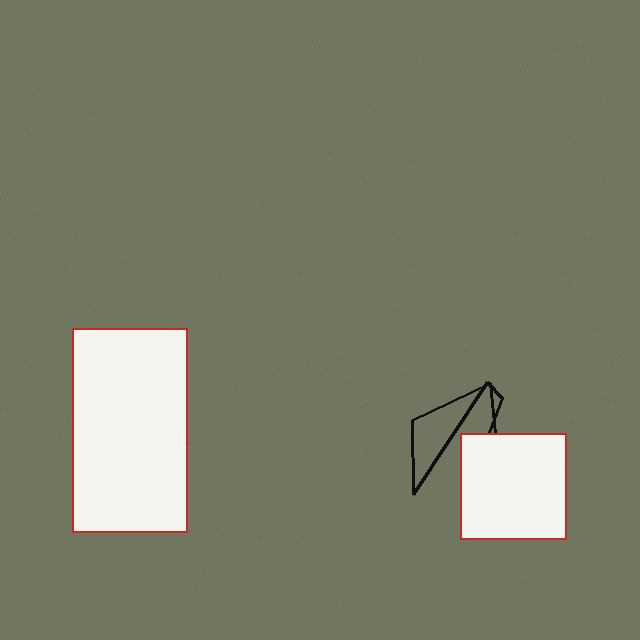book: (72, 328, 187, 532), (460, 433, 566, 539)
crocodile_crack: (399, 374, 505, 516)
